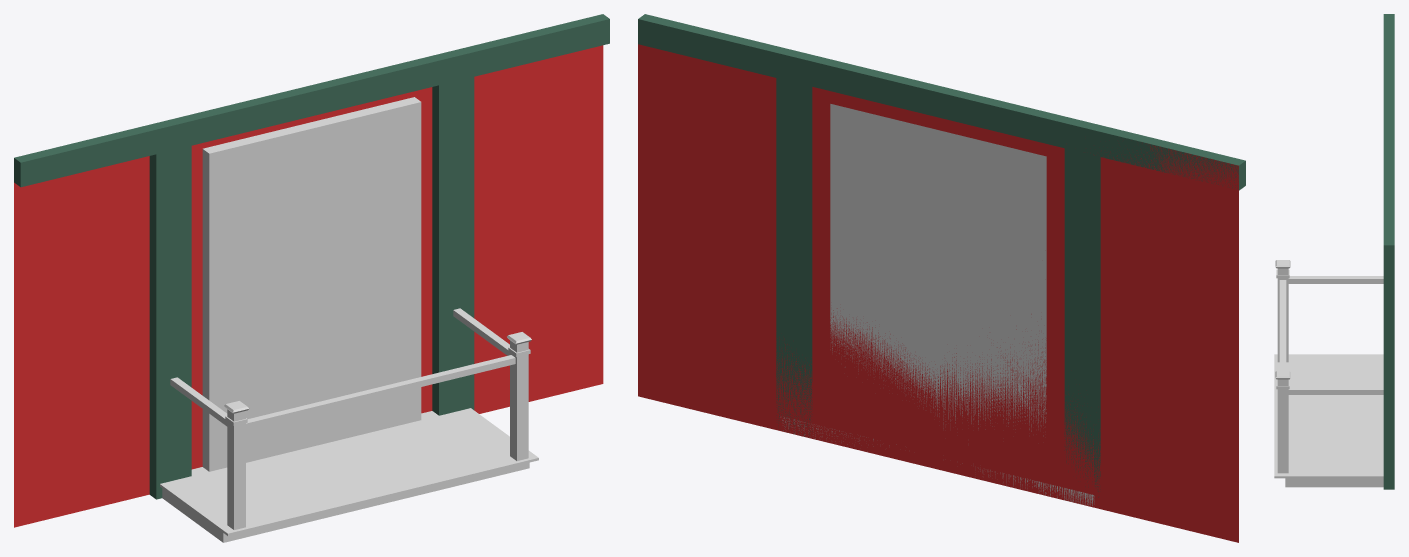
Rendered from new building.fbx.
The picture shows the model from 3 angles, left to right: view 1: azimuth 30°, elevation 25°; view 2: azimuth 150°, elevation 25°; view 3: azimuth 270°, elevation 25°; orthographic projection. The views are drawn at different scales.
Visible parts, largest first — view 1: Plane, Cube.023, Cube.019, Cube.012, Cube.020, Cube.013, Cube.014, Cube.011, Cube.015; view 2: Plane, Cube.023, Cube.019, Cube.020; view 3: Cube.012, Cube.020, Cube.019, Cube.013, Cube.015, Cube.011, Cube.014, Cube.018, Cube.017.
Part boxes in pixels (x1,y1,x2,y2): Plane: [14, 45, 603, 527]; Cube.023: [202, 97, 421, 471]; Cube.019: [149, 77, 474, 499]; Cube.012: [160, 408, 538, 535]; Cube.020: [14, 14, 609, 187]; Cube.013: [227, 353, 528, 529]; Cube.014: [246, 355, 515, 429]; Cube.011: [162, 462, 529, 542]; Cube.015: [170, 308, 509, 426]; Plane: [638, 44, 1238, 542]; Cube.023: [830, 104, 1046, 436]; Cube.019: [776, 78, 1100, 497]; Cube.020: [638, 14, 1245, 190]; Cube.012: [1274, 354, 1383, 478]; Cube.020: [1383, 14, 1394, 265]; Cube.019: [1383, 265, 1394, 489]; Cube.013: [1277, 278, 1288, 473]; Cube.015: [1288, 276, 1383, 394]; Cube.011: [1285, 478, 1383, 487]; Cube.014: [1279, 280, 1286, 370]; Cube.018: [1275, 260, 1290, 379]; Cube.017: [1277, 268, 1288, 385].
Size of the model in its own units: 500 by 300 by 110.
